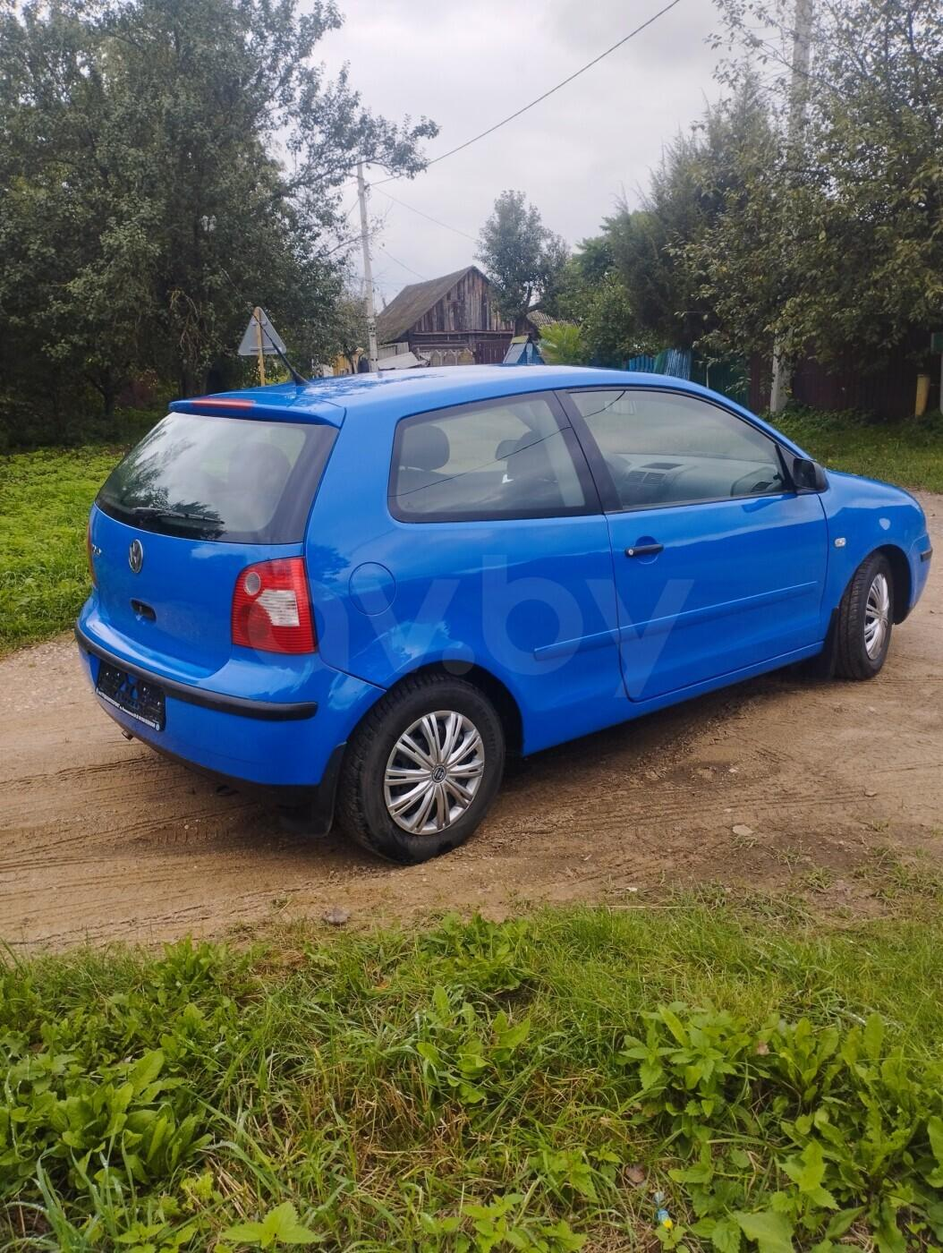Polo_2001-2005: (63, 358, 943, 868)
